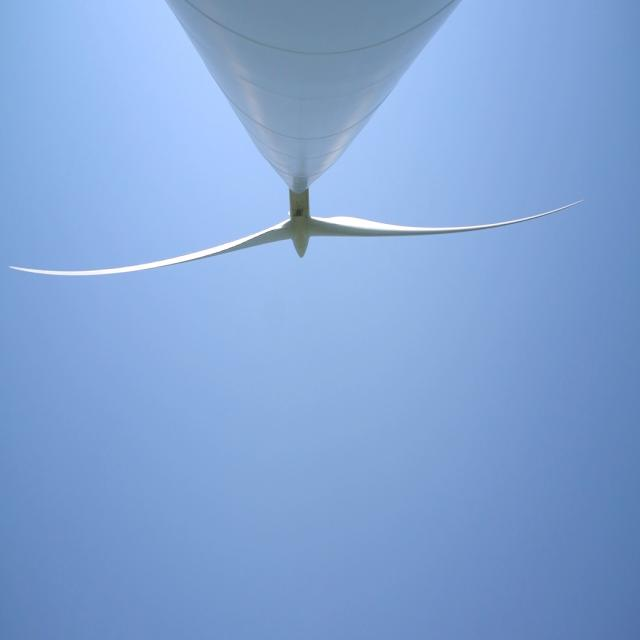blade 1: (8, 237, 268, 309)
blade 2: (334, 188, 588, 246)
